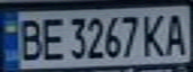2: (84, 13, 106, 60)
3: (63, 14, 87, 61)
6: (103, 12, 124, 60)
7: (121, 11, 142, 58)
A: (160, 9, 190, 56)
B: (12, 16, 45, 62)
E: (36, 15, 66, 62)
K: (139, 10, 169, 57)
